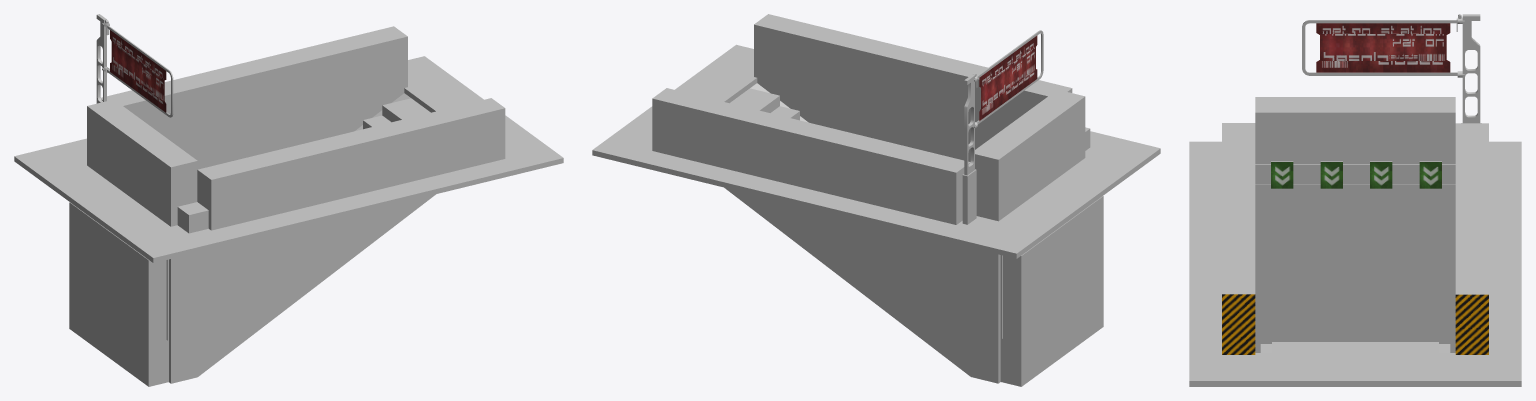
The model's file is Metro_enter.fbx.
3 views of the same model, side by side, from view 1: azimuth 30°, elevation 25°; view 2: azimuth 150°, elevation 25°; view 3: azimuth 270°, elevation 25° (orthographic). The views are drawn at different scales.
Visible parts, largest first — view 1: polySurface992; view 2: polySurface992; view 3: polySurface992.
Part boxes in pixels (<box>): polySurface992: <box>14,14,563,386</box>; polySurface992: <box>592,14,1160,386</box>; polySurface992: <box>1189,14,1521,386</box>.
Size of the model in its own units: 8.48 by 5.84 by 4.98.
